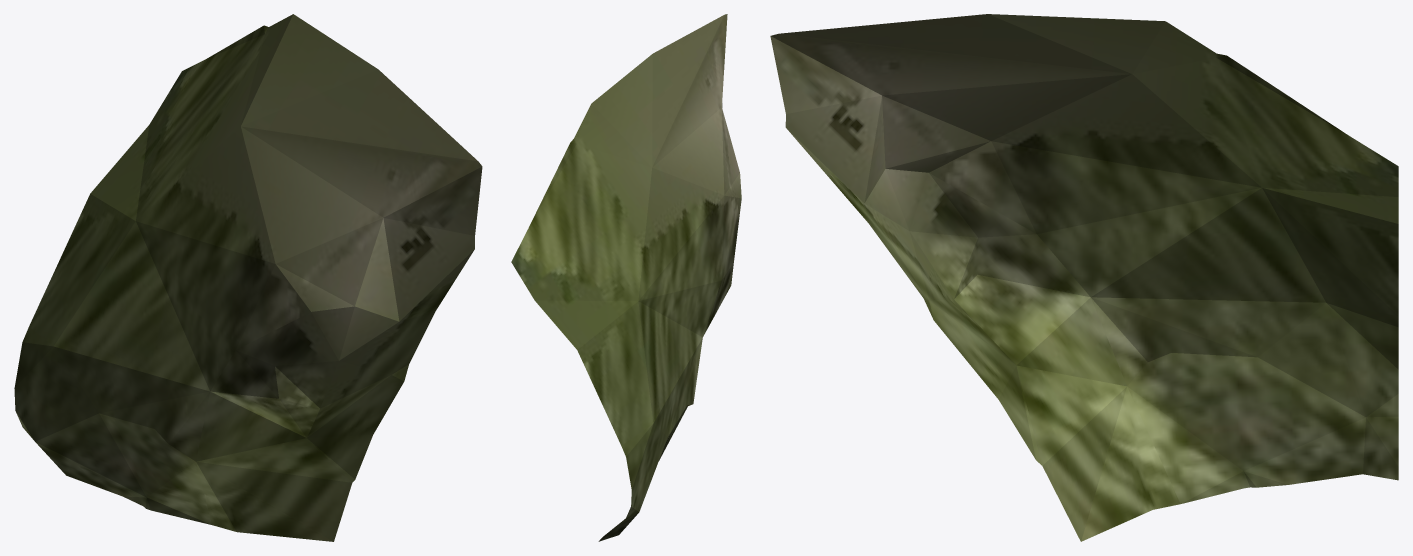
3 views of the same model, side by side, from view 1: azimuth 30°, elevation 25°; view 2: azimuth 150°, elevation 25°; view 3: azimuth 270°, elevation 25° (orthographic). The views are drawn at different scales.
Bounding box in the file's own units: 0.6512 × 1.88 × 2.02.
Materials: 1 (1 with a texture image).
